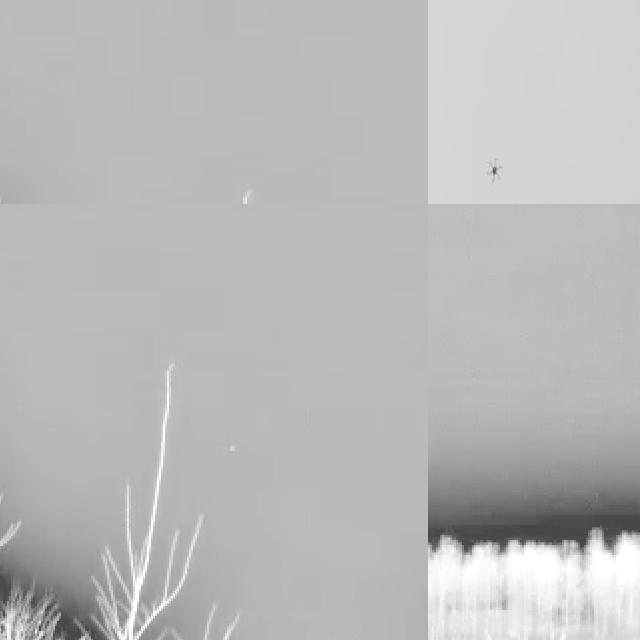0: (222, 438, 246, 468)
drone: (480, 154, 504, 185)
